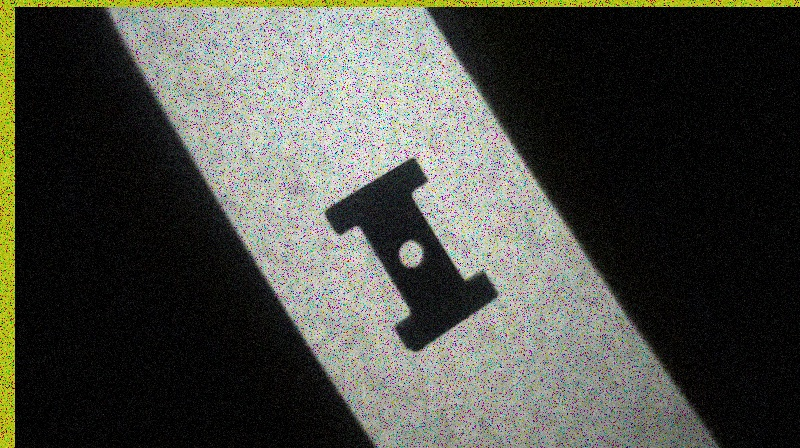O002: (318, 153, 501, 353)
